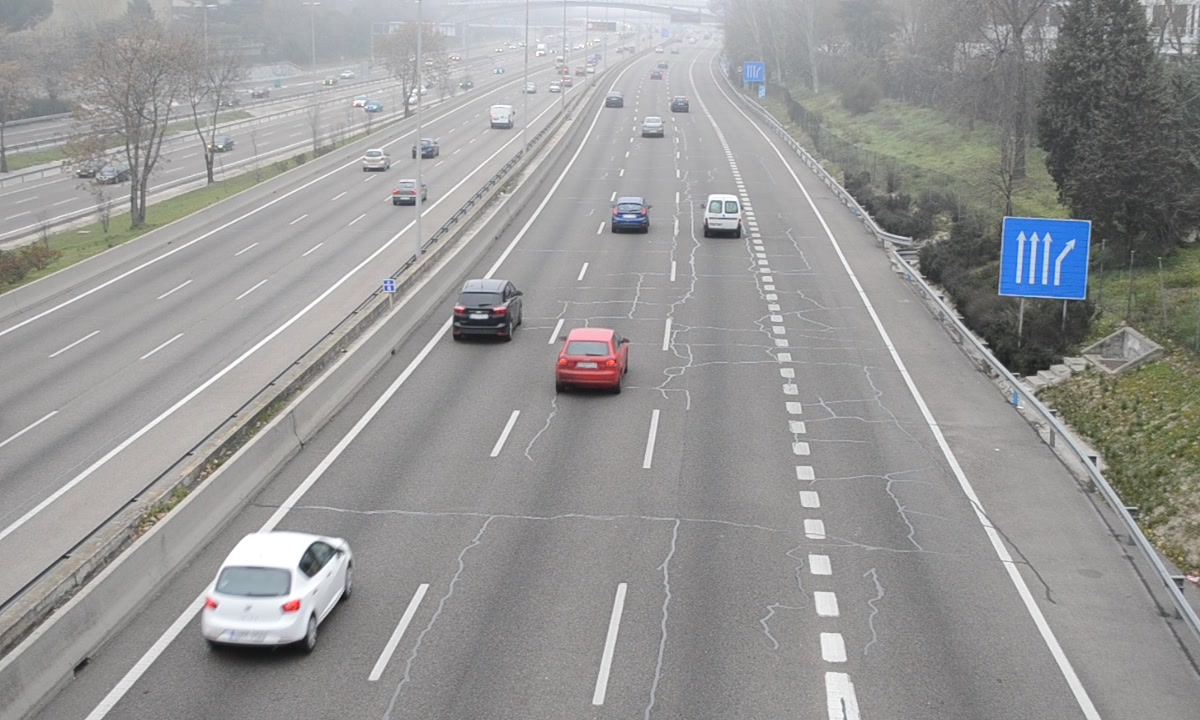car: (200, 533, 352, 643), (554, 329, 626, 389), (454, 280, 520, 340), (611, 198, 648, 233), (641, 116, 666, 139)
van: (704, 194, 741, 237)
